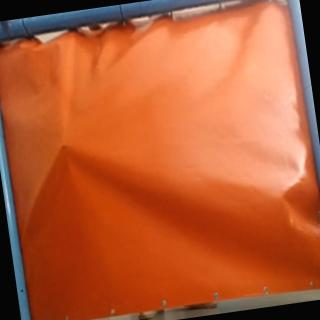Hit-hRxx: (54, 137, 78, 155)
